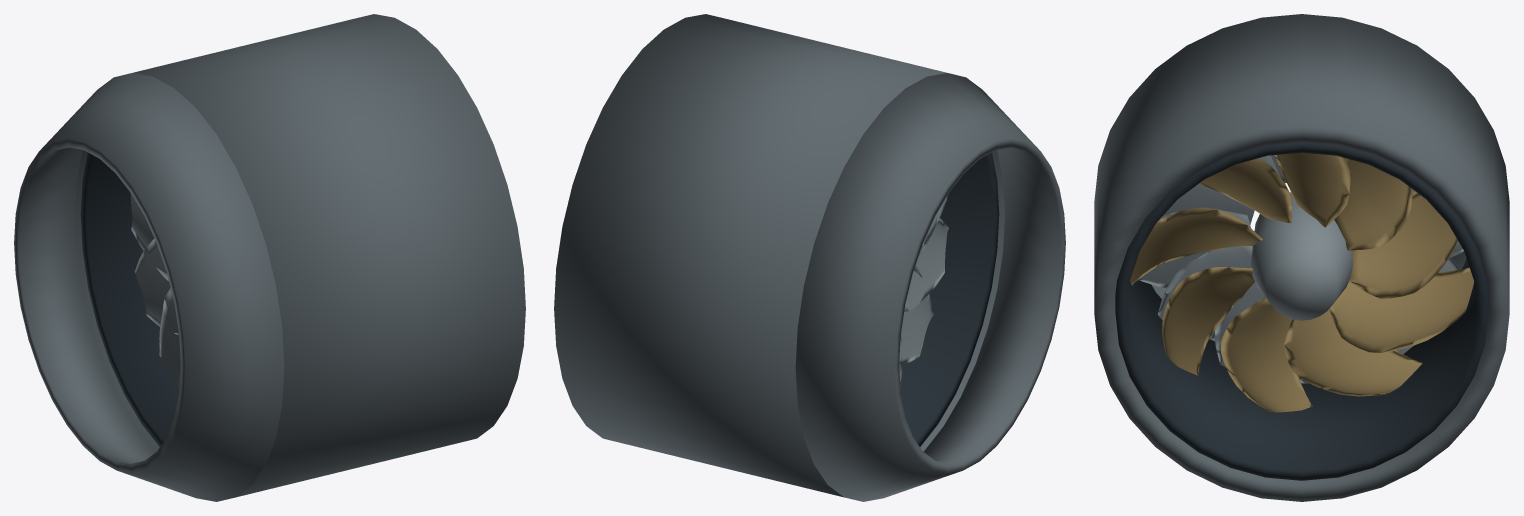
File: PJ_T10_NEXTGEN_LOD0.fbx
The picture shows the model from 3 angles, left to right: view 1: azimuth 30°, elevation 25°; view 2: azimuth 150°, elevation 25°; view 3: azimuth 270°, elevation 25°; orthographic projection. The views are drawn at different scales.
Visible parts, largest first — view 1: PJ_T10_NEXTGEN_LOD0_Housing.001, PJ_T10_NEXTGEN_LOD0_Nozzle.001, PJ_T10_NEXTGEN_LOD0_Lining.001, PJ_T10_NEXTGEN_LOD0_Stator_12.001, PJ_T10_NEXTGEN_LOD0_Stator_11.001, PJ_T10_NEXTGEN_LOD0_Stator_00.001; view 2: PJ_T10_NEXTGEN_LOD0_Housing.001, PJ_T10_NEXTGEN_LOD0_Nozzle.001, PJ_T10_NEXTGEN_LOD0_Lining.001, PJ_T10_NEXTGEN_LOD0_Stator_07.001, PJ_T10_NEXTGEN_LOD0_Stator_08.001; view 3: PJ_T10_NEXTGEN_LOD0_Housing.001, PJ_T10_NEXTGEN_LOD0_Lining.001, PJ_T10_NEXTGEN_LOD0_Hub.001, PJ_T10_NEXTGEN_LOD0_Rotor_08.001, PJ_T10_NEXTGEN_LOD0_Rotor_07.001, PJ_T10_NEXTGEN_LOD0_Rotor_06.001, PJ_T10_NEXTGEN_LOD0_Rotor_00.001, PJ_T10_NEXTGEN_LOD0_Rotor_05.001, PJ_T10_NEXTGEN_LOD0_Rotor_01.001, PJ_T10_NEXTGEN_LOD0_Rotor_04.001, PJ_T10_NEXTGEN_LOD0_Rotor_02.001, PJ_T10_NEXTGEN_LOD0_Rotor_03.001 (+4 smaller).
Boxes of the visible parts, x1,y1,x2,y2 form: PJ_T10_NEXTGEN_LOD0_Housing.001: (75, 14, 525, 497); PJ_T10_NEXTGEN_LOD0_Nozzle.001: (14, 73, 284, 501); PJ_T10_NEXTGEN_LOD0_Lining.001: (80, 152, 179, 446); PJ_T10_NEXTGEN_LOD0_Stator_12.001: (134, 238, 178, 335); PJ_T10_NEXTGEN_LOD0_Stator_11.001: (159, 288, 180, 388); PJ_T10_NEXTGEN_LOD0_Stator_00.001: (130, 192, 168, 280); PJ_T10_NEXTGEN_LOD0_Housing.001: (554, 14, 1004, 497); PJ_T10_NEXTGEN_LOD0_Nozzle.001: (795, 73, 1065, 501); PJ_T10_NEXTGEN_LOD0_Lining.001: (900, 152, 999, 446); PJ_T10_NEXTGEN_LOD0_Stator_07.001: (904, 218, 948, 311); PJ_T10_NEXTGEN_LOD0_Stator_08.001: (899, 265, 933, 363); PJ_T10_NEXTGEN_LOD0_Housing.001: (1094, 14, 1509, 501); PJ_T10_NEXTGEN_LOD0_Lining.001: (1115, 143, 1488, 480); PJ_T10_NEXTGEN_LOD0_Hub.001: (1251, 192, 1352, 320); PJ_T10_NEXTGEN_LOD0_Rotor_08.001: (1329, 267, 1473, 352); PJ_T10_NEXTGEN_LOD0_Rotor_07.001: (1284, 309, 1422, 396); PJ_T10_NEXTGEN_LOD0_Rotor_06.001: (1220, 297, 1312, 412); PJ_T10_NEXTGEN_LOD0_Rotor_00.001: (1349, 191, 1457, 298); PJ_T10_NEXTGEN_LOD0_Rotor_05.001: (1162, 267, 1254, 375); PJ_T10_NEXTGEN_LOD0_Rotor_01.001: (1334, 158, 1412, 250); PJ_T10_NEXTGEN_LOD0_Rotor_04.001: (1130, 207, 1262, 285); PJ_T10_NEXTGEN_LOD0_Rotor_02.001: (1274, 152, 1350, 227); PJ_T10_NEXTGEN_LOD0_Rotor_03.001: (1199, 158, 1291, 223).
Size of the model in its own units: 508 by 610 by 610.
